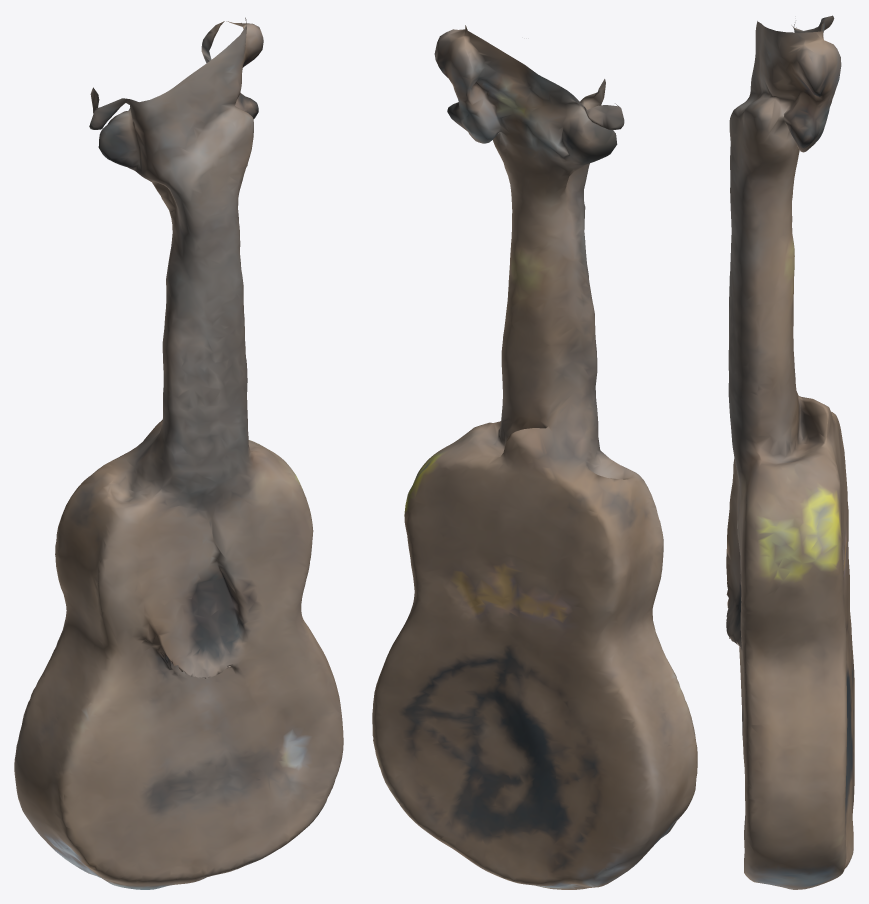
The picture shows the model from 3 angles, left to right: view 1: azimuth 30°, elevation 25°; view 2: azimuth 150°, elevation 25°; view 3: azimuth 270°, elevation 25°; orthographic projection. The views are drawn at different scales.
Visible parts, largest first — view 1: geometry_0; view 2: geometry_0; view 3: geometry_0.
Part boxes in pixels (x1=…): geometry_0: x1=14, y1=17, x2=343, y2=889; geometry_0: x1=372, y1=25, x2=697, y2=889; geometry_0: x1=726, y1=15, x2=854, y2=889.
Bounding box in the file's own units: 0.7207 × 2 × 0.2673.
